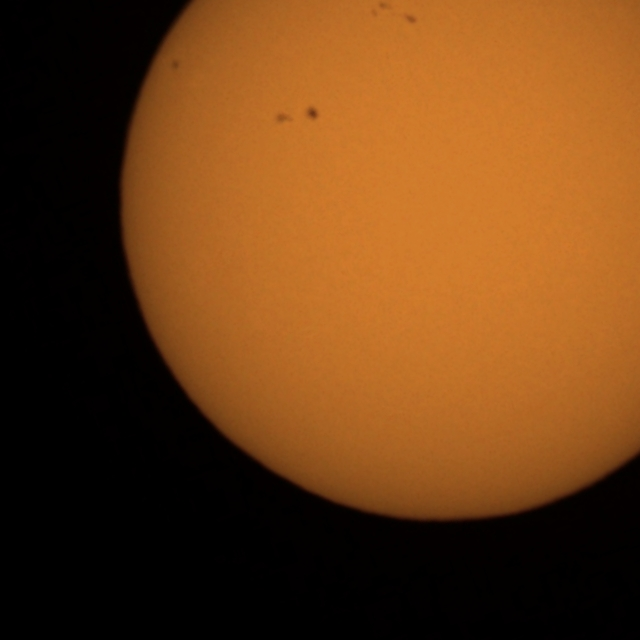sunspot: (368, 1, 420, 26), (271, 104, 322, 126), (370, 0, 391, 20), (304, 104, 321, 123), (274, 111, 294, 126), (402, 11, 418, 26), (169, 57, 182, 73)
